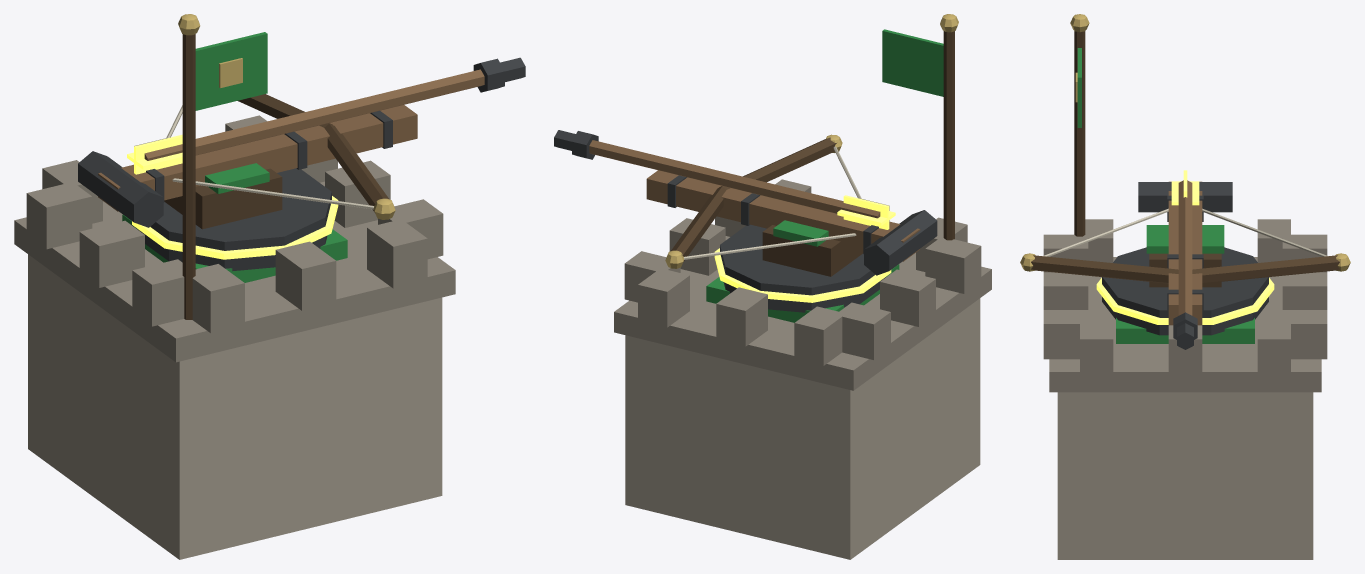
Rendered from gtowerB_lod1.glb.
3 renders of one model, left to right at view 1: azimuth 30°, elevation 25°; view 2: azimuth 150°, elevation 25°; view 3: azimuth 270°, elevation 25°, orthographic. The views are drawn at different scales.
Parts seen in each view (by area): view 1: GtowerB_LOD1_Walls, GtowerB_LOD1_Details, GtowerB_LOD1_head, GtowerB_LOD1_arrow, GtowerB_LOD1_Frame; view 2: GtowerB_LOD1_Walls, GtowerB_LOD1_Details, GtowerB_LOD1_head, GtowerB_LOD1_arrow, GtowerB_LOD1_Frame; view 3: GtowerB_LOD1_Walls, GtowerB_LOD1_Details, GtowerB_LOD1_head, GtowerB_LOD1_Frame, GtowerB_LOD1_arrow.
Boxes of the visible parts, x1,y1,x2,y2 form: GtowerB_LOD1_Walls: (14, 181, 455, 559); GtowerB_LOD1_Details: (26, 14, 443, 333); GtowerB_LOD1_head: (78, 94, 417, 229); GtowerB_LOD1_arrow: (127, 57, 525, 174); GtowerB_LOD1_Frame: (138, 168, 331, 271); GtowerB_LOD1_Walls: (614, 236, 991, 559); GtowerB_LOD1_Details: (624, 14, 981, 365); GtowerB_LOD1_head: (646, 134, 937, 276); GtowerB_LOD1_arrow: (554, 130, 895, 229); GtowerB_LOD1_Frame: (720, 224, 885, 312); GtowerB_LOD1_Walls: (1049, 257, 1321, 559); GtowerB_LOD1_Details: (1043, 14, 1327, 374); GtowerB_LOD1_head: (1020, 181, 1350, 325); GtowerB_LOD1_Frame: (1102, 247, 1268, 335); GtowerB_LOD1_arrow: (1171, 170, 1199, 349).
Bounding box in the file's own units: 1.51 × 1.77 × 1.19.
